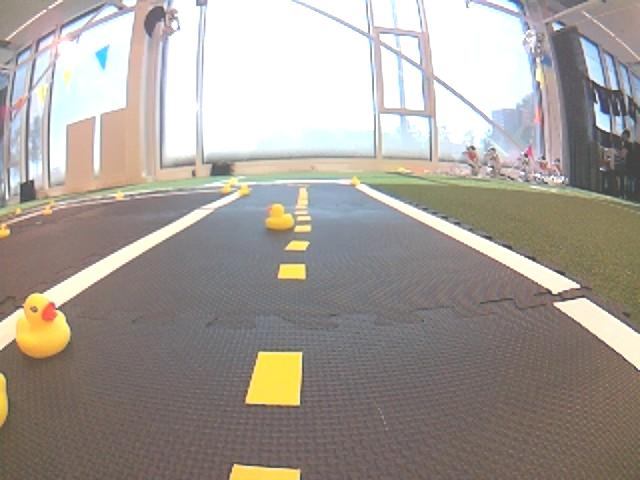Duckies: (15, 295, 69, 360), (265, 204, 293, 231), (0, 369, 9, 428), (0, 223, 9, 239), (239, 184, 250, 194), (43, 204, 52, 215), (222, 184, 232, 193), (350, 176, 360, 184), (116, 191, 124, 199), (230, 177, 238, 185), (49, 200, 55, 206), (16, 208, 22, 214)
